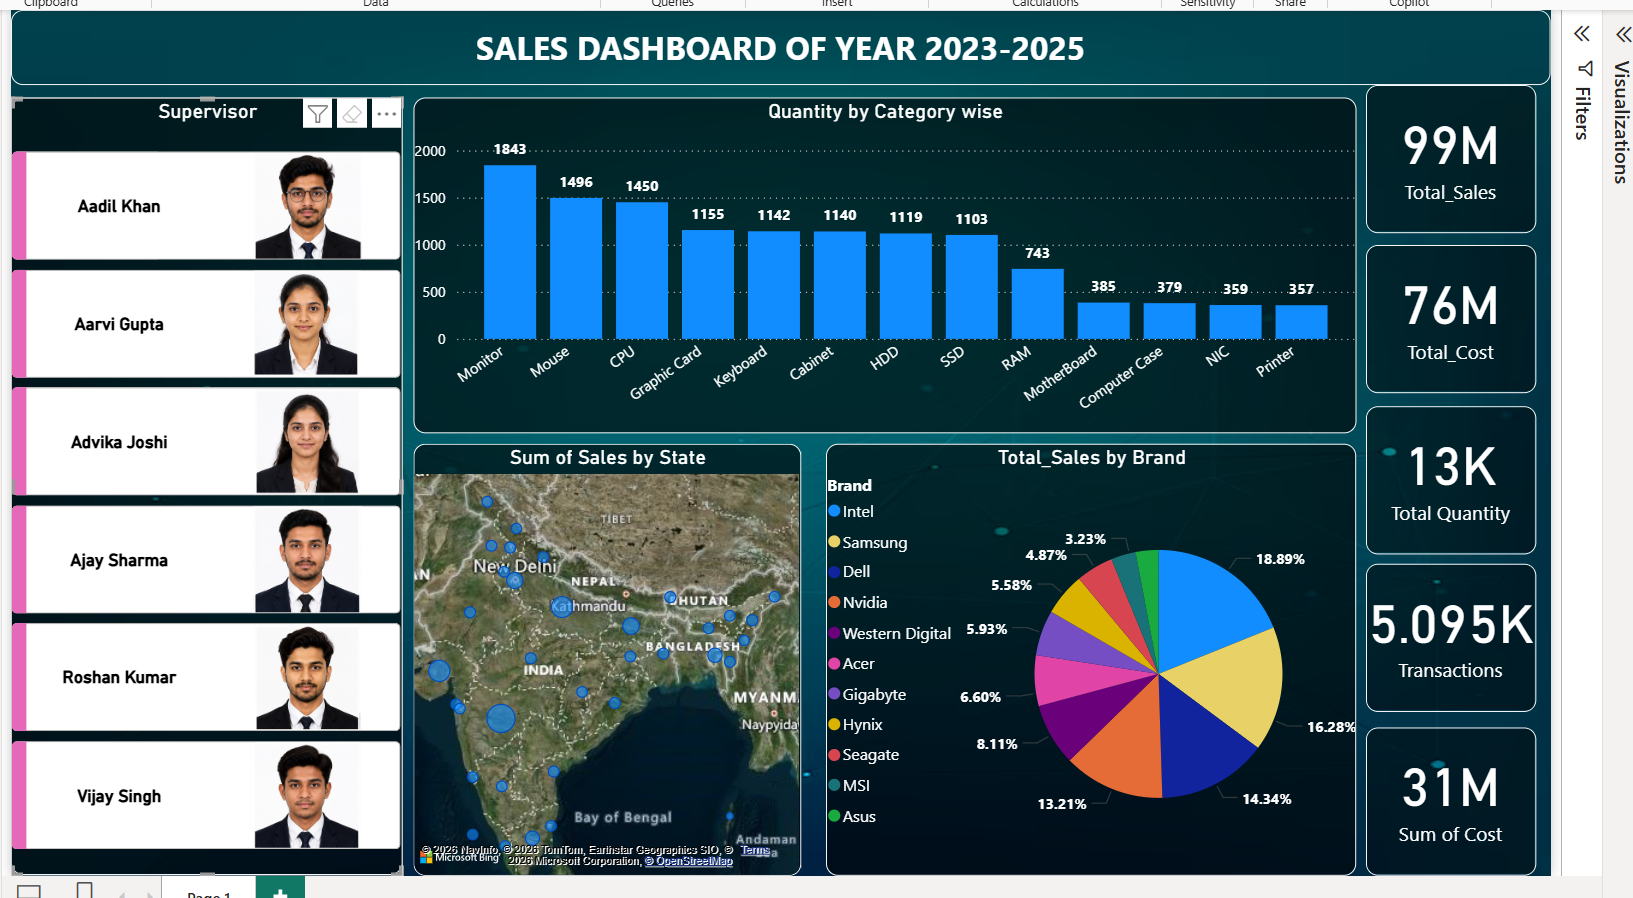

What the dashboard file says about the page in this screenshot:
{"tool":"powerbi","page":{"name":"Page 1","canvas":[1280,720],"ordinal":0},"visuals":[{"type":"textbox","box":[0,0,1280.2,62.8],"z":0},{"type":"cardVisual","fields":{"Data":["Sum(Sales_Data.Total_Sales)"]},"box":[1126.7,62.8,141.9,123.3],"z":1000},{"type":"cardVisual","fields":{"Data":["Sum(Sales_Data.Total_Cost)"]},"box":[1126.7,195.3,141.9,123.3],"z":2000},{"type":"cardVisual","fields":{"Data":["Sum(Sales_Data.Quantity)"]},"box":[1126.7,329.1,141.9,123.3],"z":3000},{"type":"cardVisual","fields":{"Data":["CountNonNull(Sales_Data.Order_Number)"]},"box":[1126.7,460.5,141.9,123.3],"z":4000},{"type":"cardVisual","fields":{"Data":["Sum(Sales_Data.Cost)"]},"box":[1126.7,596.5,141.9,123.3],"z":5000},{"type":"clusteredColumnChart","title":"Quantity by Category wise","fields":{"Y":["Sum(Sales_Data.Quantity)"],"Category":["Sales_Data.Category"]},"box":[334.9,73.3,783.7,279.1],"z":6000},{"type":"pieChart","fields":{"Y":["Sum(Sales_Data.Total_Sales)"],"Category":["Sales_Data.Brand"]},"box":[677.9,360.5,440.7,359.3],"z":7000},{"type":"map","fields":{"Category":["State_list.State"],"Size":["Sum(Sales_Data.Sales)"]},"box":[334.9,360.5,322.1,359.3],"z":8000},{"type":"advancedSlicerVisual","fields":{"Values":["Supervisor.Supervisor"]},"box":[0,73.3,325.6,646.5],"z":8001}]}

Visuals, with their boxes on the page's 1280x720 design canvas (x1, y1, x2, y2). These are canvas units, not pixel positions in the 1633x898 screenshot, which may show the page scaled, cropped or inside an application window:
textbox: pyautogui.locateOnScreen(0, 0, 1280, 63)
cardVisual - Sum(Sales_Data.Total_Sales): pyautogui.locateOnScreen(1127, 63, 1269, 186)
cardVisual - Sum(Sales_Data.Total_Cost): pyautogui.locateOnScreen(1127, 195, 1269, 319)
cardVisual - Sum(Sales_Data.Quantity): pyautogui.locateOnScreen(1127, 329, 1269, 452)
cardVisual - CountNonNull(Sales_Data.Order_Number): pyautogui.locateOnScreen(1127, 460, 1269, 584)
cardVisual - Sum(Sales_Data.Cost): pyautogui.locateOnScreen(1127, 596, 1269, 720)
"Quantity by Category wise" clusteredColumnChart: pyautogui.locateOnScreen(335, 73, 1119, 352)
pieChart - Sum(Sales_Data.Total_Sales) x Sales_Data.Brand: pyautogui.locateOnScreen(678, 360, 1119, 720)
map - State_list.State x Sum(Sales_Data.Sales): pyautogui.locateOnScreen(335, 360, 657, 720)
advancedSlicerVisual - Supervisor.Supervisor: pyautogui.locateOnScreen(0, 73, 326, 720)
